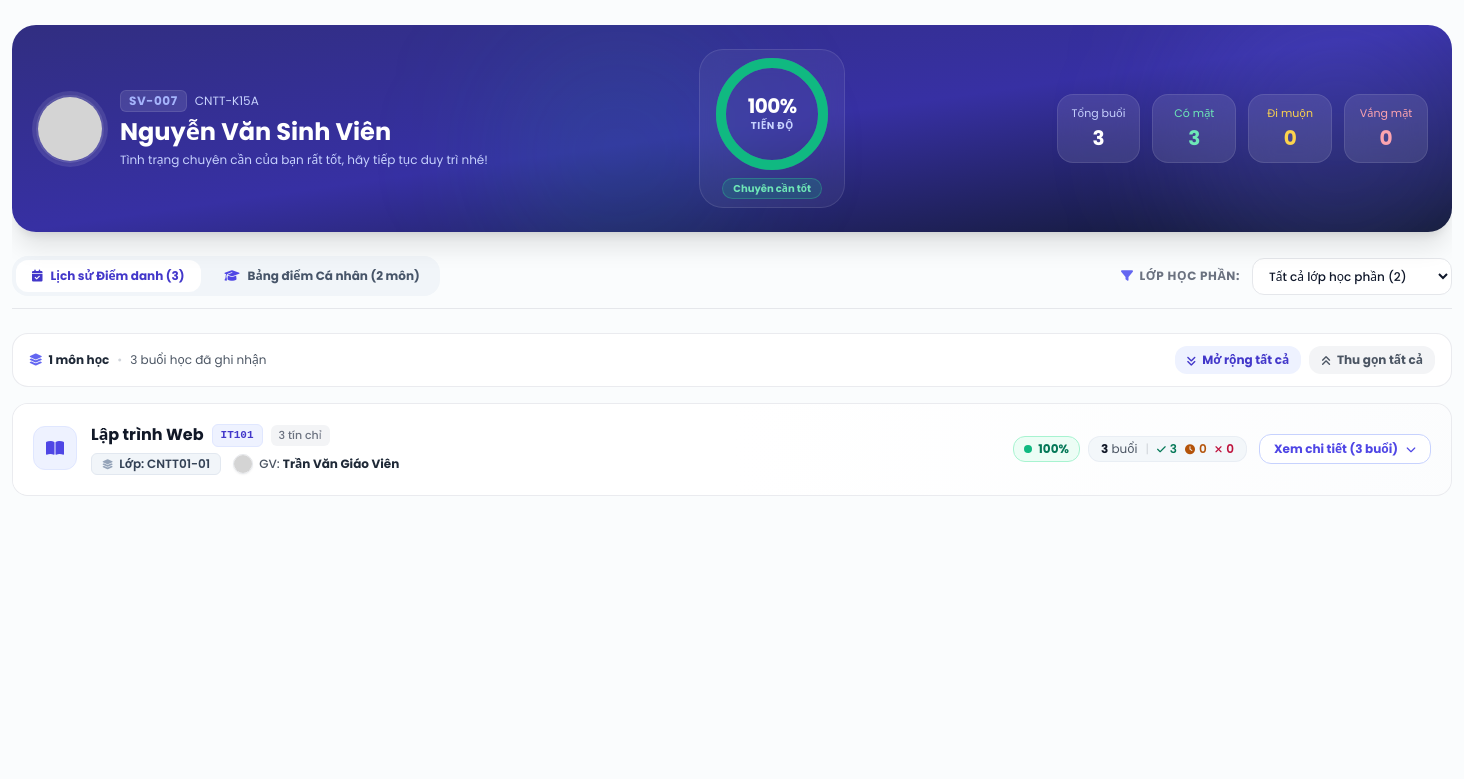
Scenario: StudentAttendance (Attendance & Personal Gradebook) › hides sessions without notes in detailed table and displays empty state when no notes exist
Click the button "Xem chi tiết (3 buổi)".
click(1345, 449)  # box [1259,434,1431,464]
(page scrolled)
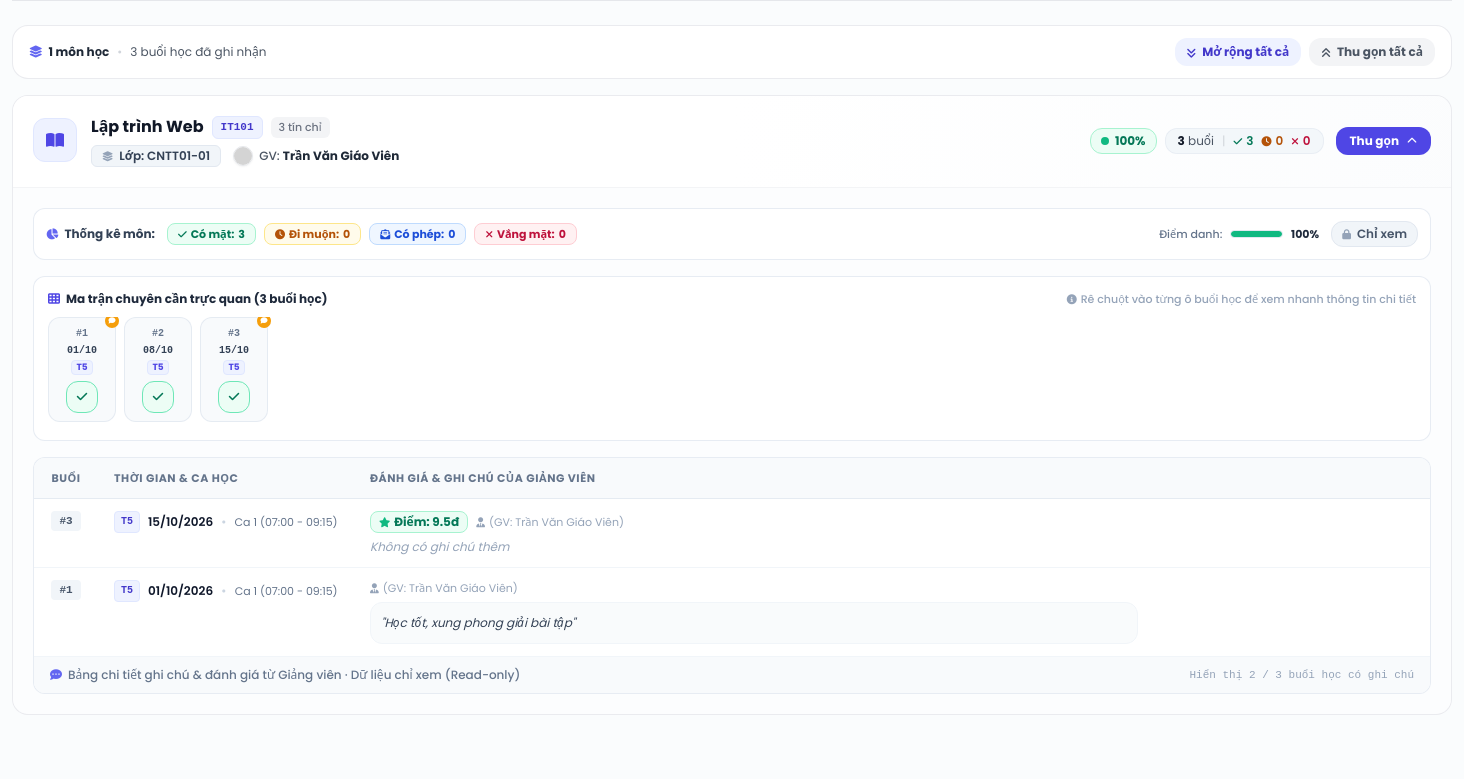
Expected: the text "Ma trận chuyên cần trực quan (3 buổi học)" is shown, [66,290,328,306]
Expected: the text "#1" below "Ma trận chuyên cần trực quan (" is shown, [76,326,88,340]
Expected: the text "#2" is shown, [152,326,164,340]
